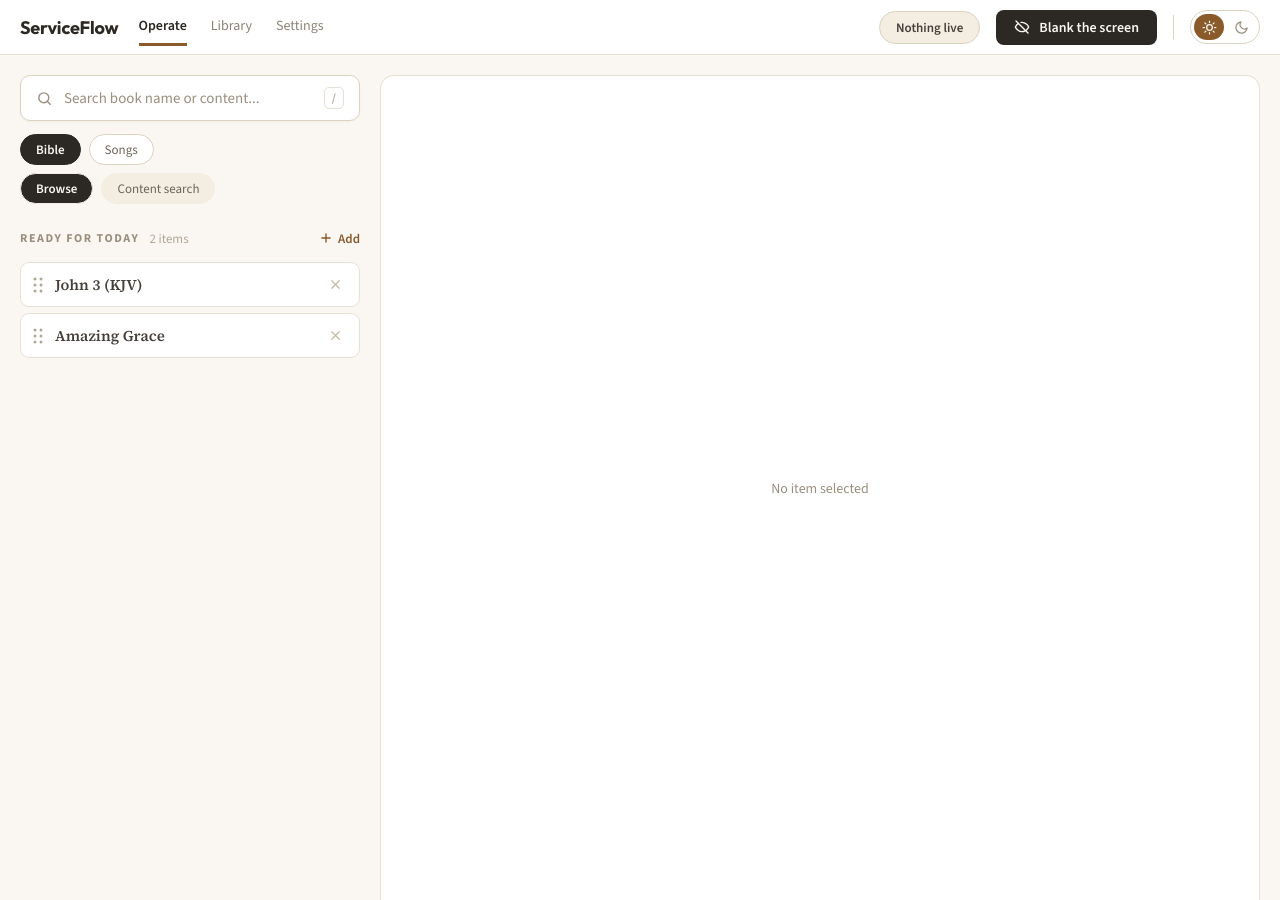
App › clears the content pane when the active staged item is removed from the list
The image size is (1280, 900).
Check: the text "John 3 (KJV)" is shown, box [55,274,143,295]
Click the button "John 3 (KJV)" at [184, 284], box [55,274,312,295]
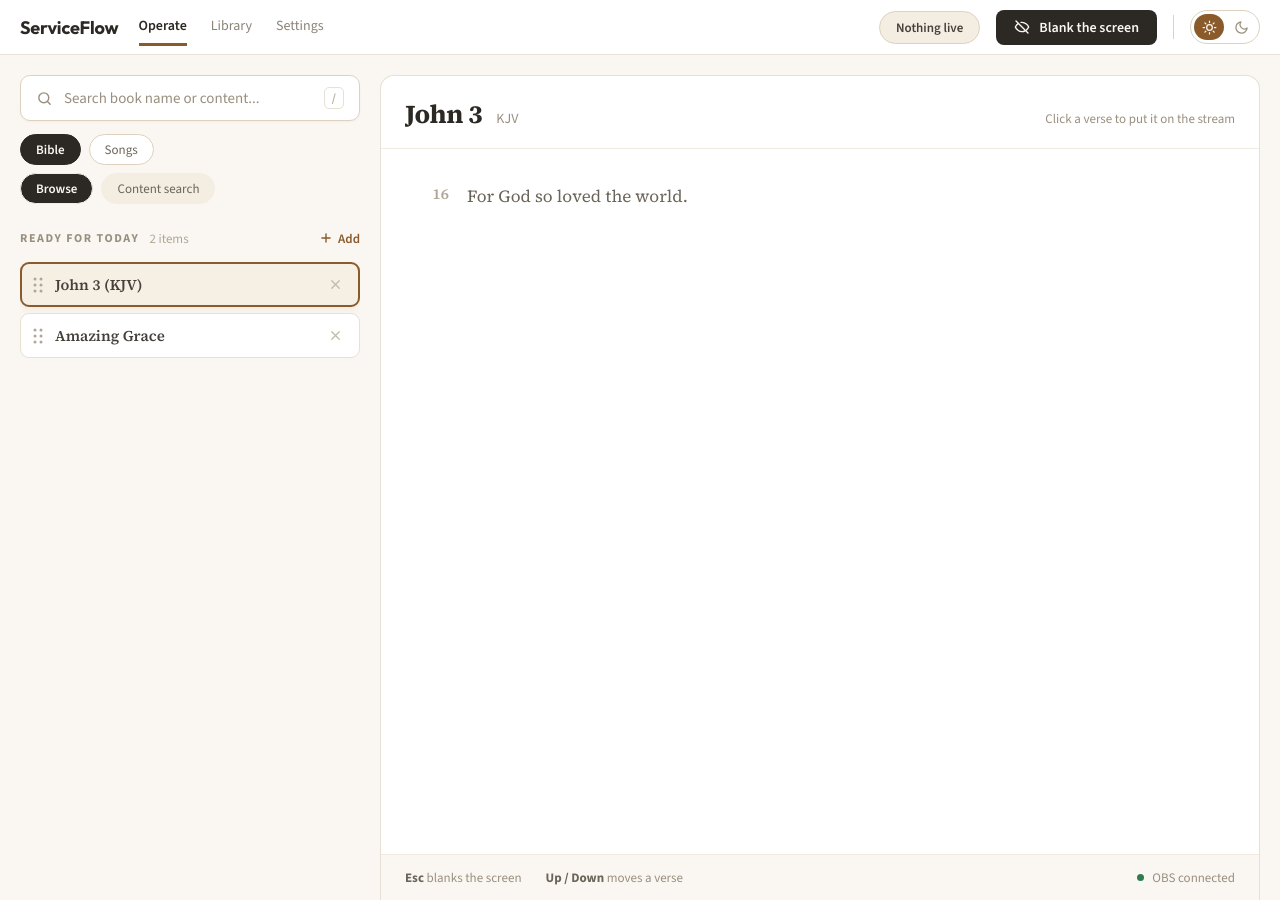
Check: the text "For God so loved the world." is shown, box [467,183,688,210]
Click the button named "remove john 3" at [336, 284], box [324,273,347,296]
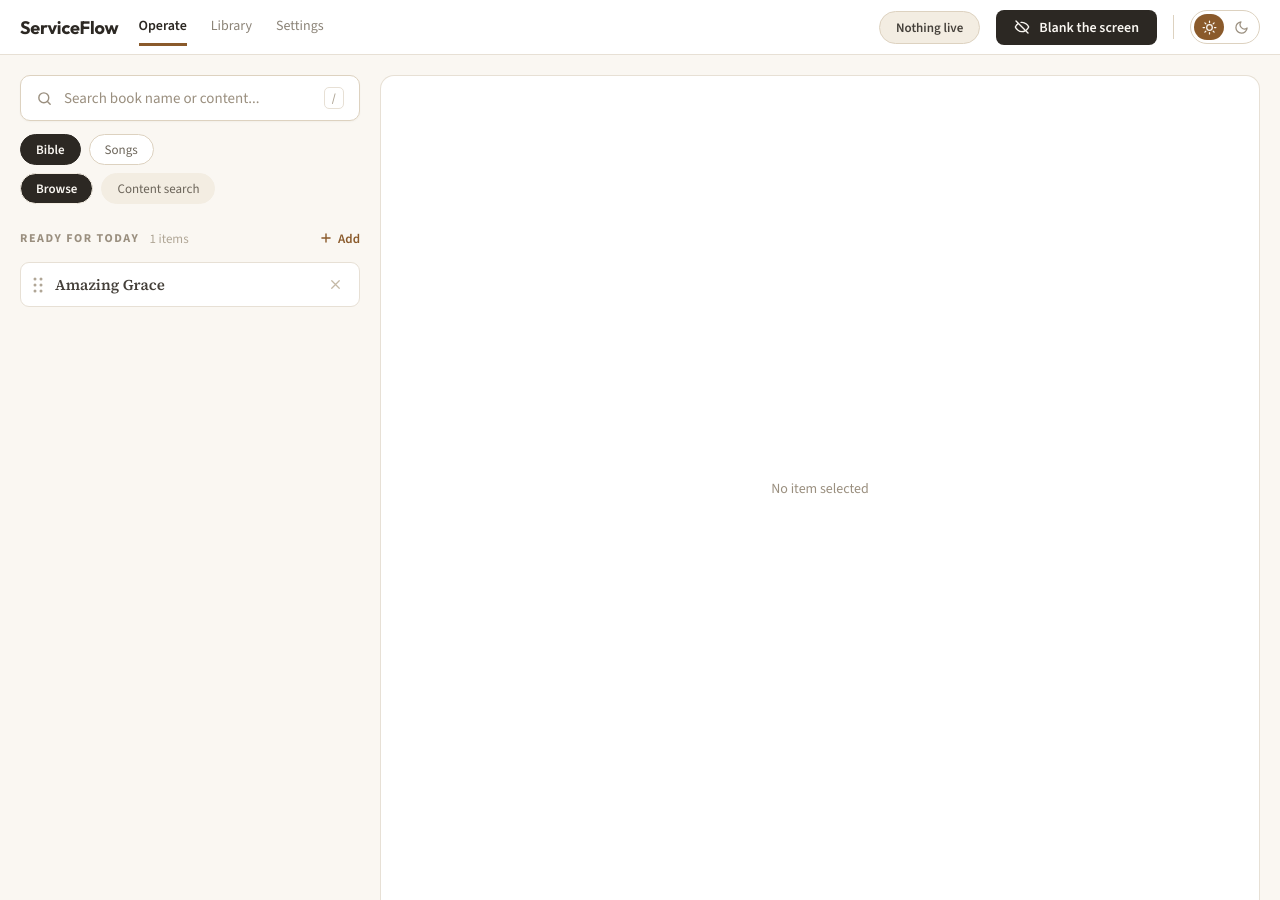
Check: the button "For God so loved the world" is gone
Check: the text "No item selected" is shown
